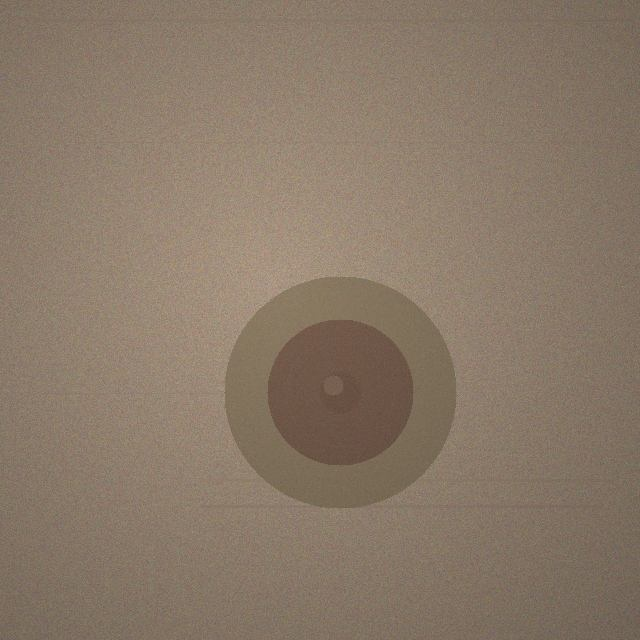good: (224, 276, 456, 508)
